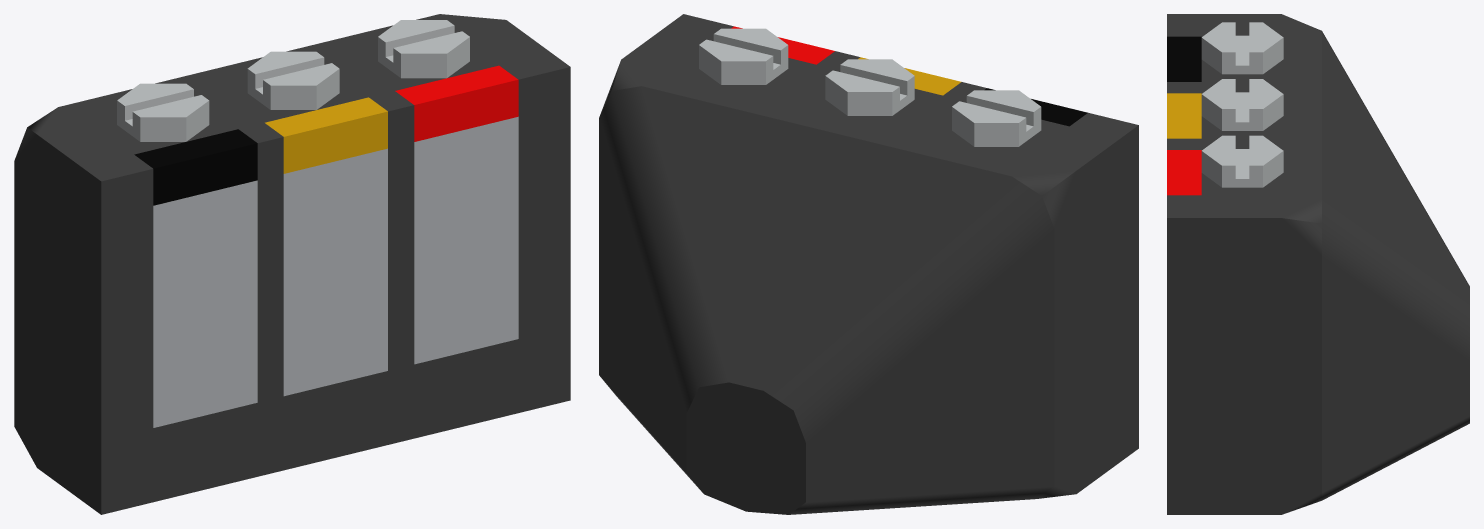
The model's file is TerminalBlockThreeConductor.fbx.
The picture shows the model from 3 angles, left to right: view 1: azimuth 30°, elevation 25°; view 2: azimuth 150°, elevation 25°; view 3: azimuth 270°, elevation 25°; orthographic projection. The views are drawn at different scales.
Visible parts, largest first — view 1: TerminalBlockThreeConductor; view 2: TerminalBlockThreeConductor; view 3: TerminalBlockThreeConductor.
Boxes of the visible parts, x1=… form: TerminalBlockThreeConductor: x1=14, y1=14, x2=570, y2=514; TerminalBlockThreeConductor: x1=599, y1=14, x2=1138, y2=514; TerminalBlockThreeConductor: x1=1167, y1=14, x2=1469, y2=514.
Bounding box in the file's own units: 20 × 14.58 × 12.54.
